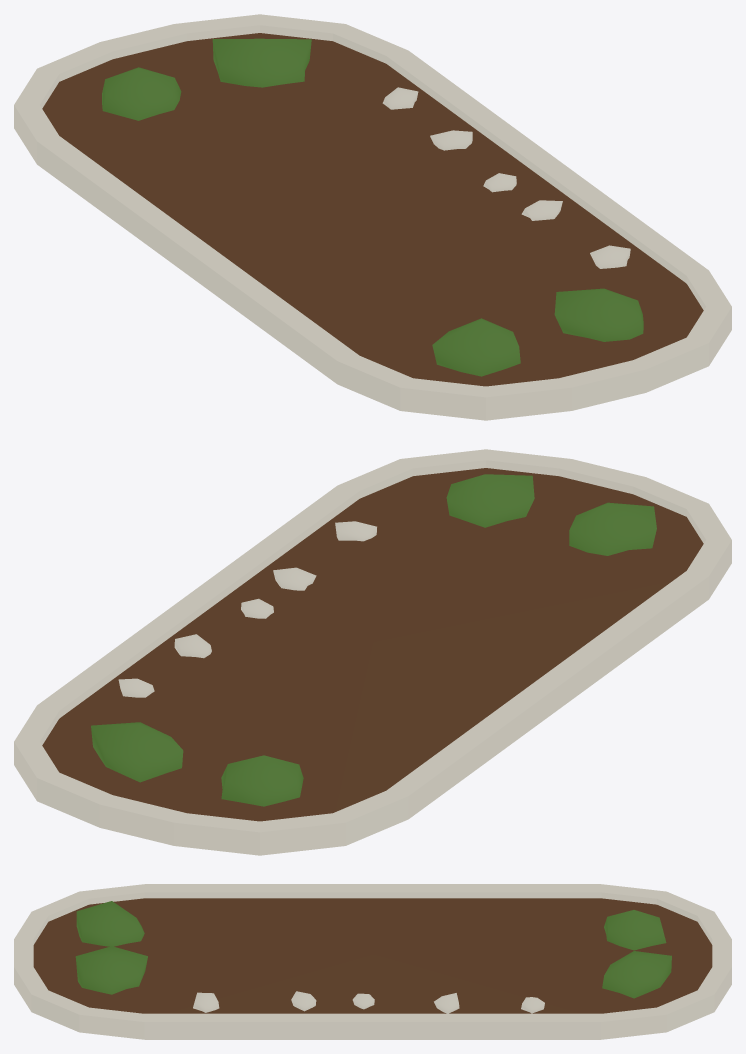
Rendered from Blender_ParkingIsland_1.glb.
3 views of the same model, one above another, from view 1: azimuth 30°, elevation 25°; view 2: azimuth 150°, elevation 25°; view 3: azimuth 270°, elevation 25° (orthographic). The views are drawn at different scales.
Visible parts, largest first — view 1: Blender_ParkingIsland_1; view 2: Blender_ParkingIsland_1; view 3: Blender_ParkingIsland_1.
Part boxes in pixels (left/top/right/bottom): Blender_ParkingIsland_1: left=14, top=14, right=731, bottom=420; Blender_ParkingIsland_1: left=14, top=449, right=731, bottom=855; Blender_ParkingIsland_1: left=14, top=884, right=731, bottom=1039.
Bounding box in the file's own units: 2.5 × 0.4 × 5.5.
